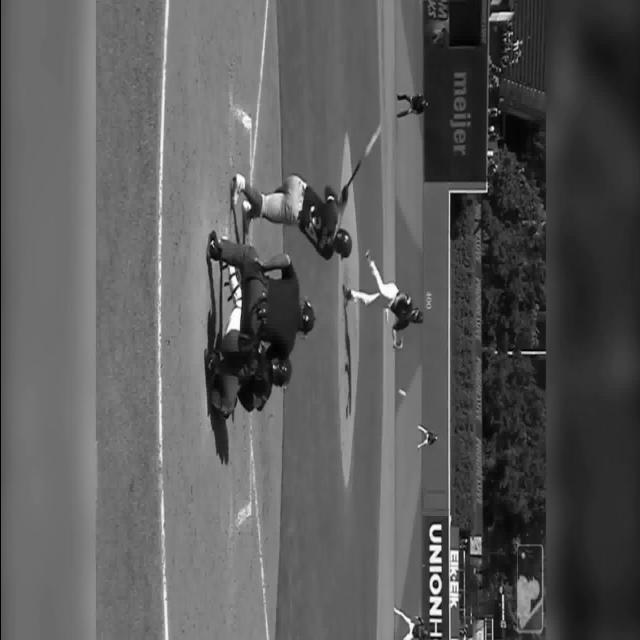baseball: (398, 388, 406, 396)
bat: (343, 123, 381, 190)
shoe: (230, 172, 244, 205), (206, 230, 221, 260), (203, 348, 220, 373), (242, 200, 252, 234), (342, 284, 350, 306), (364, 249, 372, 265)
